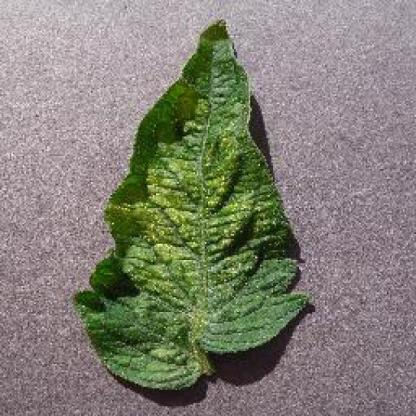Tomato_Spider_Mites: (80, 21, 306, 388)
